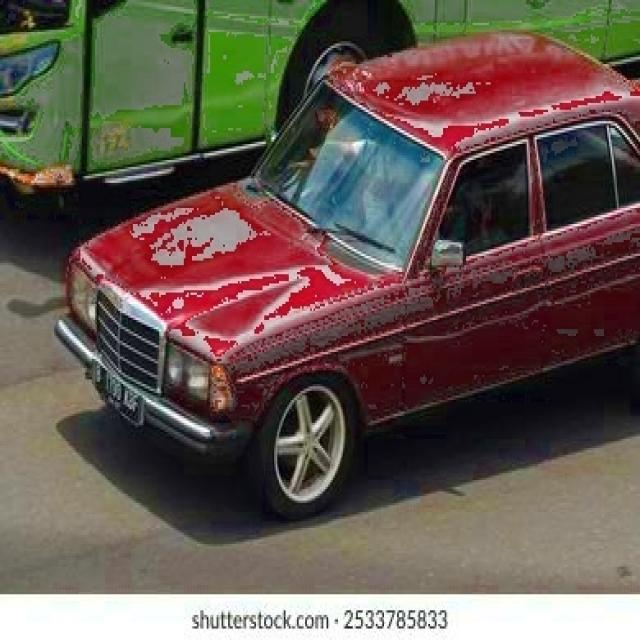maroon: (60, 33, 640, 506)
